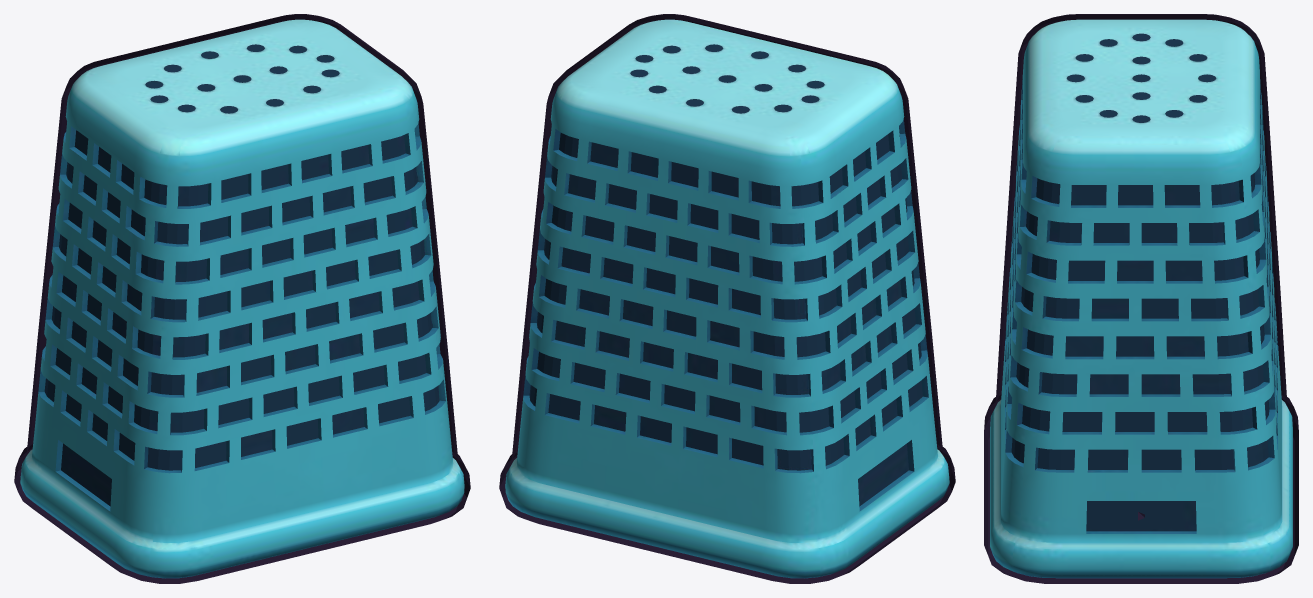
File: LaundryBasket.glb
The picture shows the model from 3 angles, left to right: view 1: azimuth 30°, elevation 25°; view 2: azimuth 150°, elevation 25°; view 3: azimuth 270°, elevation 25°; orthographic projection.
Parts seen in each view (by area): view 1: LaundryBasket, LaundryBasket_Outline; view 2: LaundryBasket, LaundryBasket_Outline; view 3: LaundryBasket, LaundryBasket_Outline.
Boxes of the visible parts, x1,y1,x2,y2 form: LaundryBasket: [20, 19, 464, 578]; LaundryBasket_Outline: [14, 14, 470, 583]; LaundryBasket: [505, 19, 949, 578]; LaundryBasket_Outline: [499, 14, 955, 583]; LaundryBasket: [990, 19, 1292, 578]; LaundryBasket_Outline: [984, 14, 1298, 583].
Size of the model in its own units: 4.84 by 5.64 by 3.74.
Materials: 2 (2 with a texture image).
